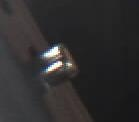screw: (33, 42, 79, 92)
